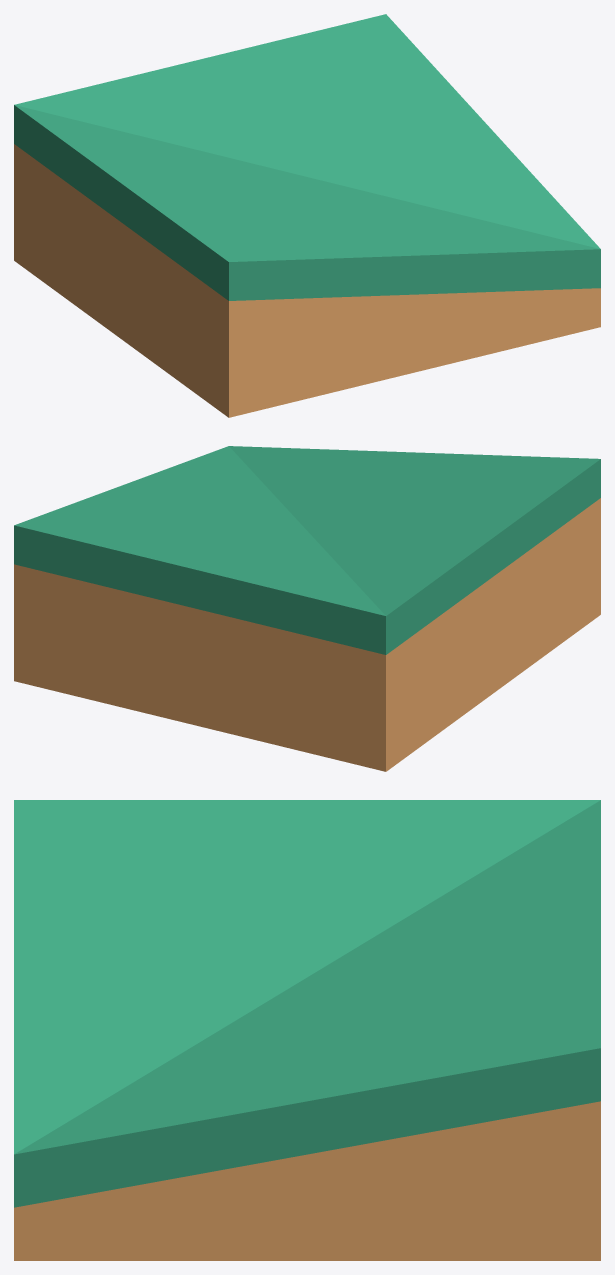
File: tile_cornerInner.dae
3 renders of one model, top to bottom at view 1: azimuth 30°, elevation 25°; view 2: azimuth 150°, elevation 25°; view 3: azimuth 270°, elevation 25°, orthographic. The views are drawn at different scales.
Visible parts, largest first — view 1: tile_cornerInner; view 2: tile_cornerInner; view 3: tile_cornerInner.
Part boxes in pixels (x1=…): tile_cornerInner: x1=14, y1=14, x2=600, y2=417; tile_cornerInner: x1=14, y1=446, x2=600, y2=771; tile_cornerInner: x1=14, y1=800, x2=600, y2=1260.
Size of the model in its own units: 1 by 0.4 by 1.
